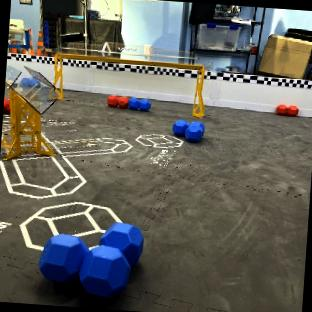V5_BLUE: (39, 222, 141, 297), (173, 119, 204, 141), (128, 97, 150, 110)
V5_RED: (276, 104, 298, 116), (117, 96, 128, 108), (107, 95, 118, 106), (3, 98, 9, 110)
